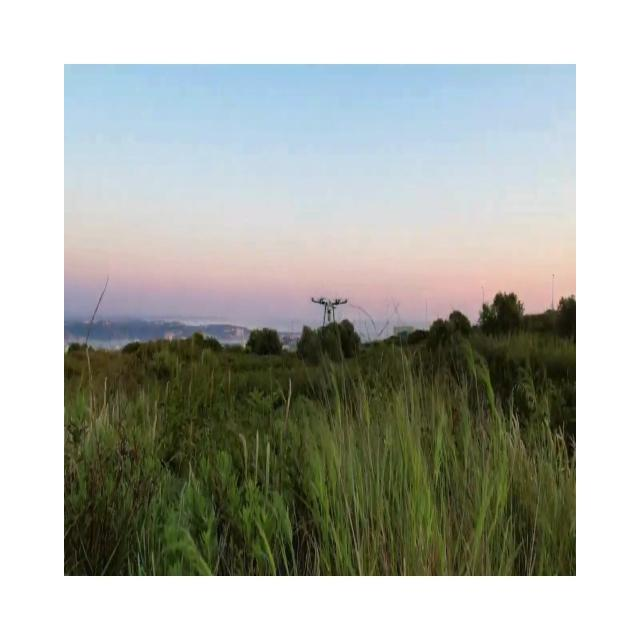drone: (311, 295, 347, 327)
